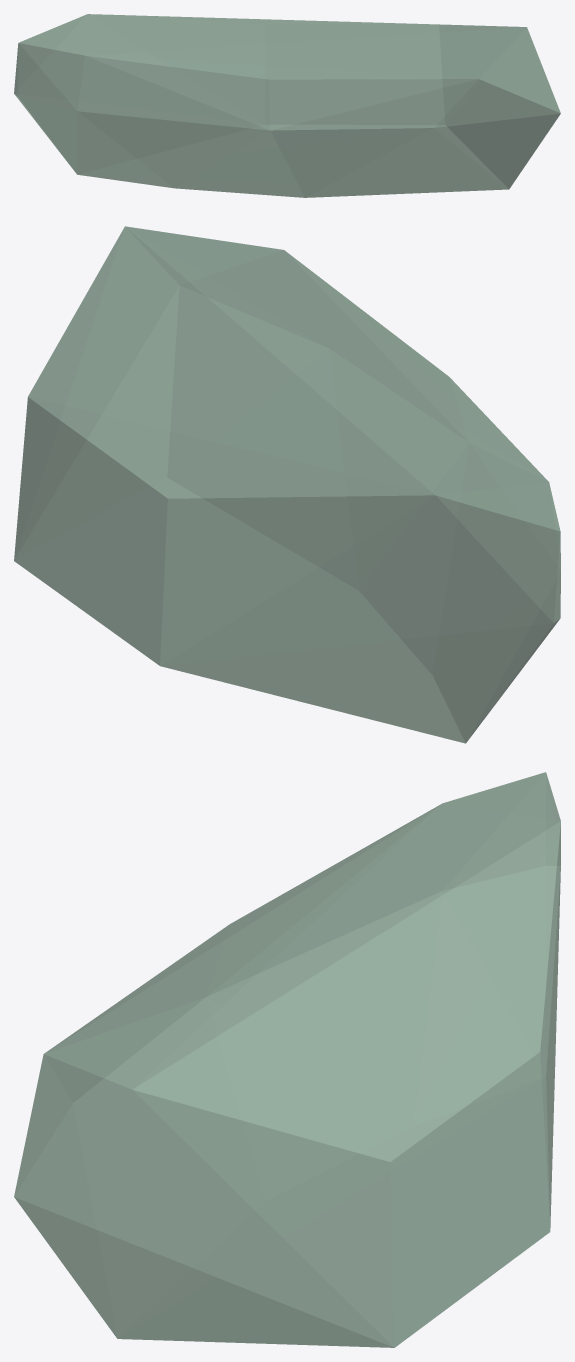
3 renders of one model, top to bottom at view 1: azimuth 30°, elevation 25°; view 2: azimuth 150°, elevation 25°; view 3: azimuth 270°, elevation 25°, orthographic. The views are drawn at different scales.
Parts seen in each view (by area): view 1: Shape_IndexedFaceSet.017_Shape_IndexedFaceSet.10842; view 2: Shape_IndexedFaceSet.017_Shape_IndexedFaceSet.10842; view 3: Shape_IndexedFaceSet.017_Shape_IndexedFaceSet.10842.
Part boxes in pixels (x1,y1,x2,y2): Shape_IndexedFaceSet.017_Shape_IndexedFaceSet.10842: (14,14,560,197); Shape_IndexedFaceSet.017_Shape_IndexedFaceSet.10842: (14,226,560,743); Shape_IndexedFaceSet.017_Shape_IndexedFaceSet.10842: (14,772,560,1347).
Bounding box in the file's own units: 0.5038 × 0.1902 × 0.3517.
